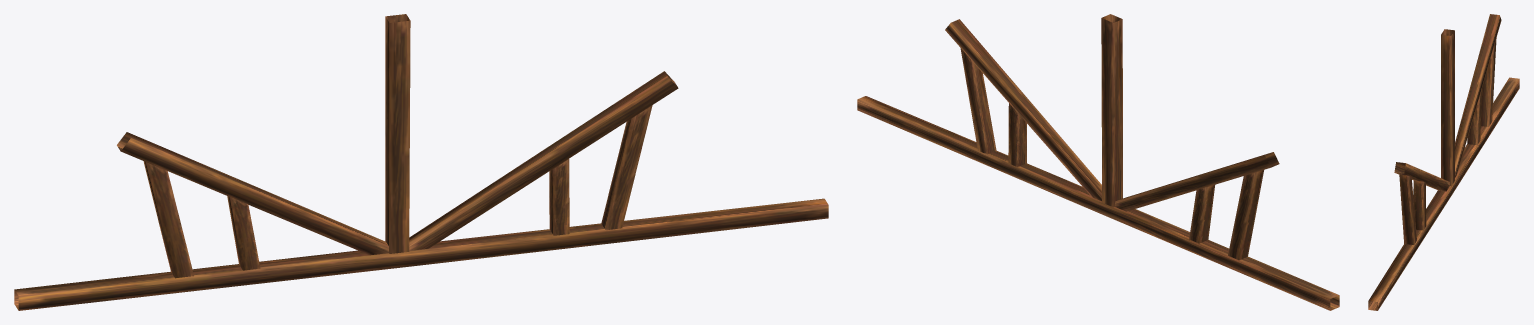
The model's file is SWORDLIGHT20_JAILCEILBRACKET19.fbx.
3 views of the same model, side by side, from view 1: azimuth 30°, elevation 25°; view 2: azimuth 150°, elevation 25°; view 3: azimuth 270°, elevation 25° (orthographic). The views are drawn at different scales.
Parts seen in each view (by area): view 1: SWORDLIGHT20_JAILCEILBRACKET19; view 2: SWORDLIGHT20_JAILCEILBRACKET19; view 3: SWORDLIGHT20_JAILCEILBRACKET19.
Part boxes in pixels (x1,y1,x2,y2): SWORDLIGHT20_JAILCEILBRACKET19: (14, 14, 828, 310); SWORDLIGHT20_JAILCEILBRACKET19: (857, 14, 1339, 310); SWORDLIGHT20_JAILCEILBRACKET19: (1368, 14, 1519, 310).
Bounding box in the file's own units: 148981 × 49666 × 42506.
1 material, 1 textured.
